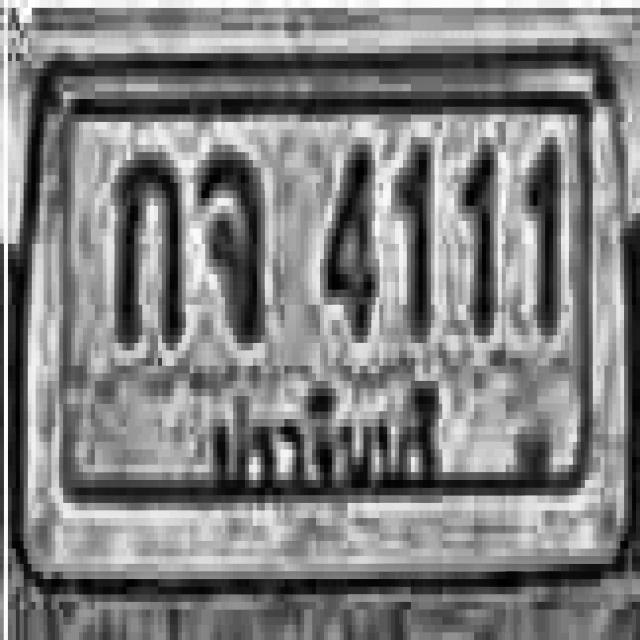license-plate: (18, 62, 640, 583)
